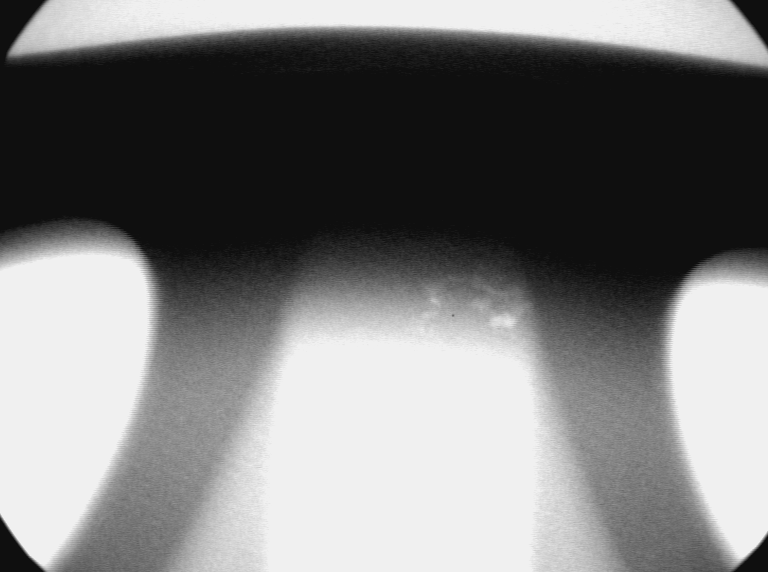defect: (420, 264, 543, 352)
